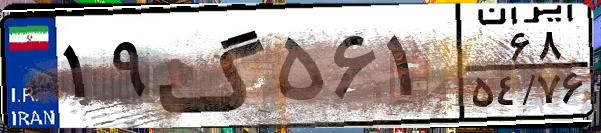1: (385, 28, 445, 110), (57, 26, 110, 100)
4: (495, 70, 520, 125)
5: (270, 28, 330, 110), (470, 70, 495, 125)
6: (330, 28, 385, 110), (560, 70, 590, 125), (508, 27, 537, 80)
7: (535, 70, 560, 125)
8: (537, 27, 568, 80)
9: (110, 28, 156, 98)
گ: (156, 12, 270, 120)
